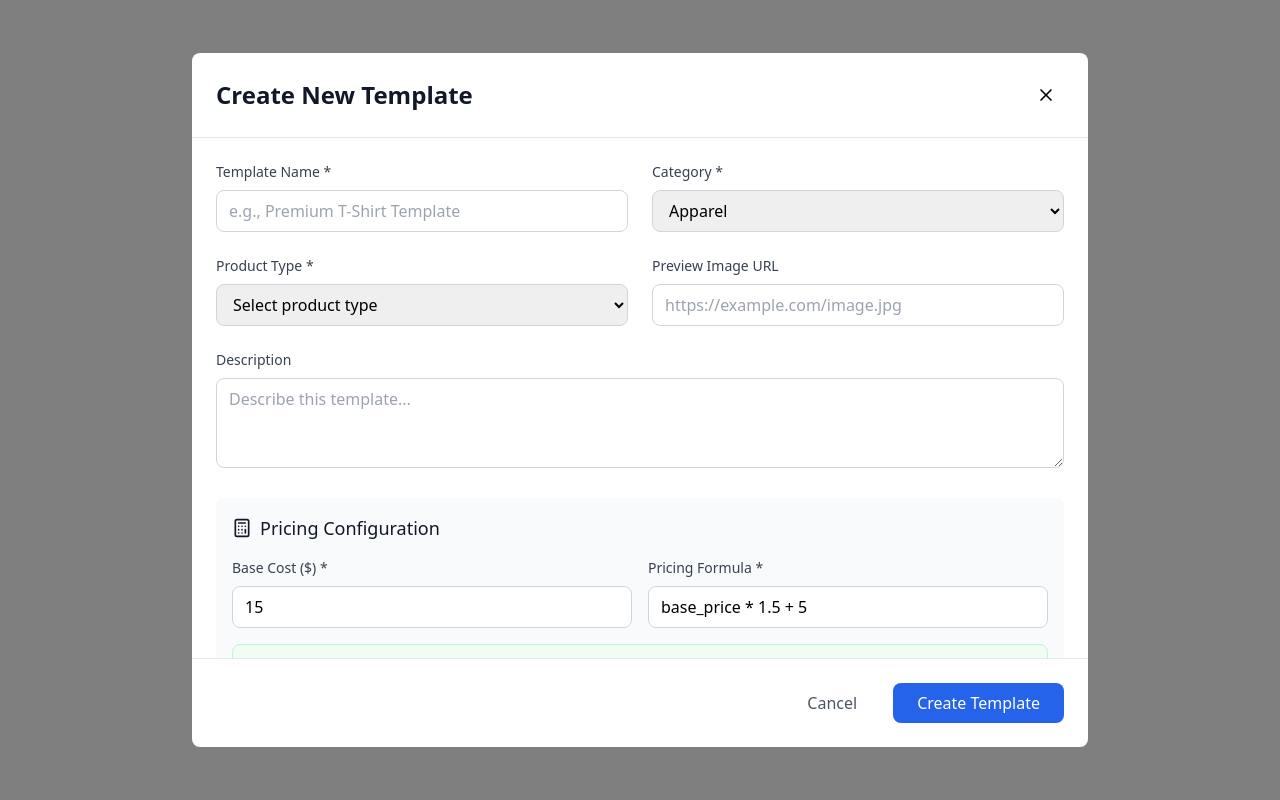
Test: Template Form Modal › validates required fields
Try to submit without filling required fields
Step 1. Click the button "Create Template" → (979,703), box left=893, top=683, right=1064, bottom=723
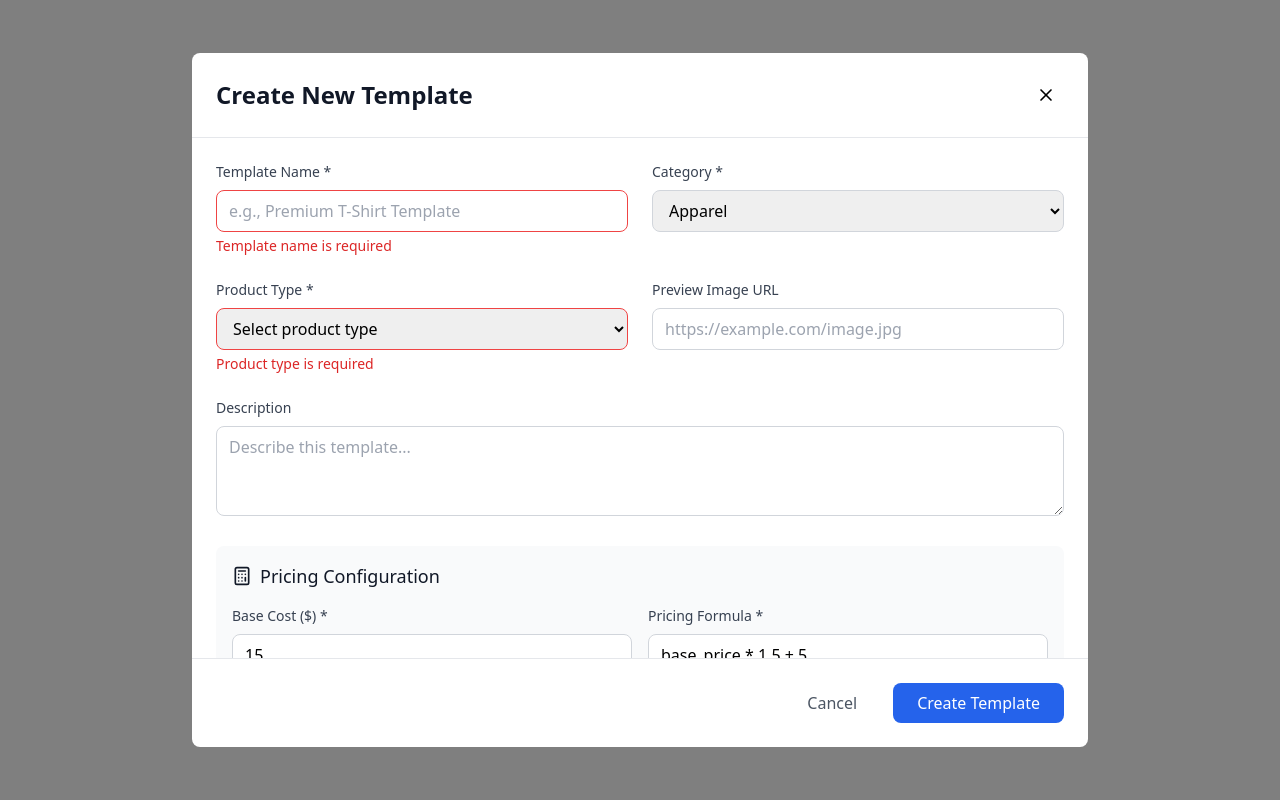
Expected: the text "Template name is required" is shown, left=216, top=236, right=392, bottom=255
Expected: the text "Product type is required" is shown, left=216, top=354, right=374, bottom=373
